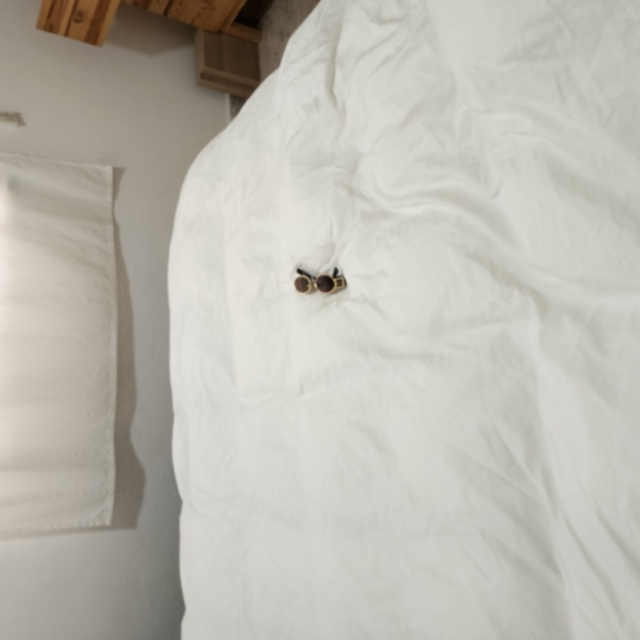glasses: (289, 264, 349, 297)
